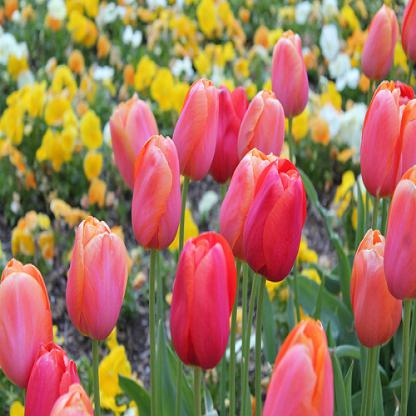TULIP: (105, 86, 397, 402), (356, 6, 411, 75)
